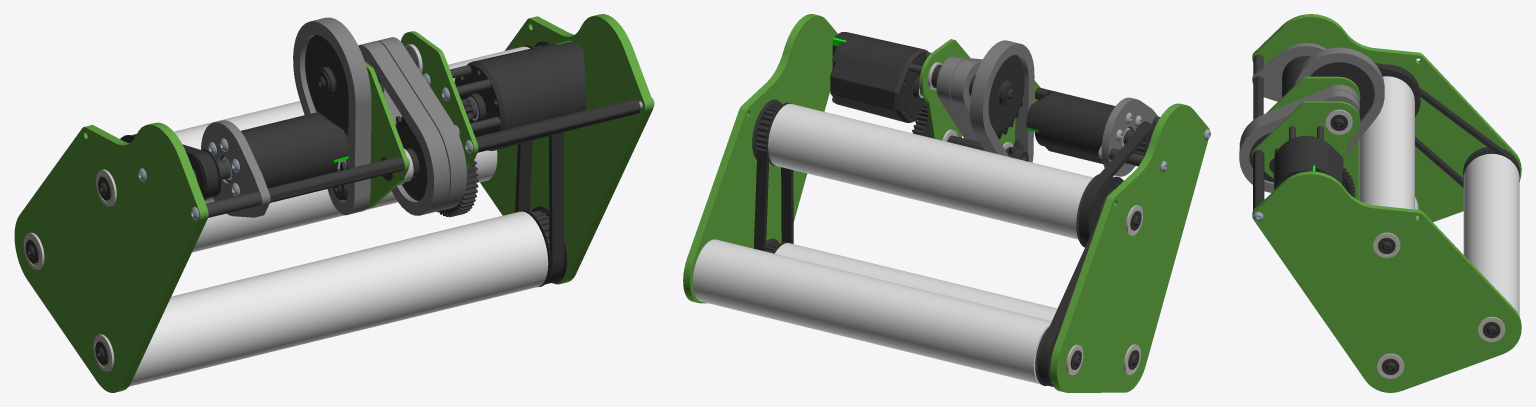
3 views of the same model, side by side, from view 1: azimuth 30°, elevation 25°; view 2: azimuth 150°, elevation 25°; view 3: azimuth 270°, elevation 25° (orthographic). The views are drawn at different scales.
Visible parts, largest first — view 1: Part 5 (×2), Part 4, Part 3, Kraken X60 Brushless Motor, 30L #35 Chain (×2), 33L #35 Chain, Kraken X44 Brushless Motor, 76T 5M 9mm Wide Belt, Part 8, 24t Aluminum Sprocket (#35, 1/2" Hex Bore, Double Hub), 3/8" Rounded Hex (4.842" L, 10.25mm OD), Part 14 (+8 smaller); view 2: Part 5 (×2), Part 4, Part 7, Part 3, Kraken X60 Brushless Motor, Kraken X44 Brushless Motor, 33L #35 Chain, 30L #35 Chain (×2), 76T 5M 9mm Wide Belt, 24t Aluminum Sprocket (#35, 1/2" Hex Bore, Double Hub), Part 12, Part 8 (+4 smaller); view 3: Part 3, Part 4, Part 5, Part 7, Part 12, 30L #35 Chain (×2), Kraken X60 Brushless Motor, 33L #35 Chain, Part 8, 78T 5M 9mm Wide Belt, 24t Aluminum Sprocket (#35, 1/2" Hex Bore, Double Hub), Part 14 (+7 smaller).
Part boxes in pixels (x1,y1,x2,y2): Part 5 (×2): [129, 150, 548, 386]; Part 4: [14, 122, 208, 392]; Part 3: [480, 14, 653, 284]; Kraken X60 Brushless Motor: [454, 40, 586, 150]; 30L #35 Chain (×2): [358, 37, 466, 215]; 33L #35 Chain: [293, 17, 371, 215]; Kraken X44 Brushless Motor: [220, 112, 348, 188]; 76T 5M 9mm Wide Belt: [515, 132, 564, 284]; Part 8: [201, 120, 270, 217]; 24t Aluminum Sprocket (#35, 1/2" Hex Bore, Double Hub): [305, 35, 348, 135]; 3/8" Rounded Hex (4.842" L, 10.25mm OD): [475, 98, 640, 152]; Part 14: [345, 62, 408, 208]; Part 5 (×2): [692, 239, 1057, 384]; Part 4: [1050, 103, 1209, 392]; Part 7: [768, 103, 1093, 239]; Part 3: [683, 14, 837, 303]; Kraken X60 Brushless Motor: [830, 32, 928, 122]; Kraken X44 Brushless Motor: [1026, 91, 1131, 163]; 33L #35 Chain: [970, 40, 1034, 162]; 30L #35 Chain (×2): [936, 56, 982, 141]; 76T 5M 9mm Wide Belt: [753, 150, 793, 251]; 24t Aluminum Sprocket (#35, 1/2" Hex Bore, Double Hub): [988, 54, 1024, 139]; Part 12: [919, 39, 969, 140]; Part 8: [1101, 97, 1158, 176]; Part 3: [1252, 171, 1521, 392]; Part 4: [1252, 14, 1521, 221]; Part 5: [1463, 153, 1519, 315]; Part 7: [1358, 76, 1414, 209]; Part 12: [1252, 101, 1360, 178]; 30L #35 Chain (×2): [1239, 84, 1359, 192]; Kraken X60 Brushless Motor: [1273, 135, 1343, 189]; 33L #35 Chain: [1294, 47, 1384, 157]; Part 8: [1252, 43, 1326, 101]; 78T 5M 9mm Wide Belt: [1415, 87, 1519, 187]; 24t Aluminum Sprocket (#35, 1/2" Hex Bore, Double Hub): [1310, 62, 1374, 120]; Part 14: [1267, 76, 1360, 112].
Size of the model in its own units: 0.3521 by 0.2496 by 0.2551.
